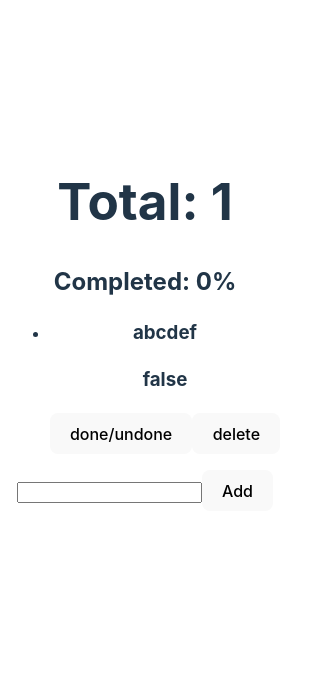
Todo list › Deve testar a todo list
Type "A" into the field named "todo-description-input" at (109, 492), box [17,482,202,503]
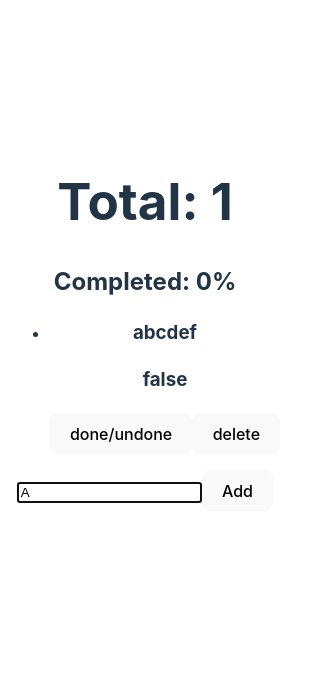
Click the button with aria-label "add-todo-button" at (238, 491), box [202,470,273,511]
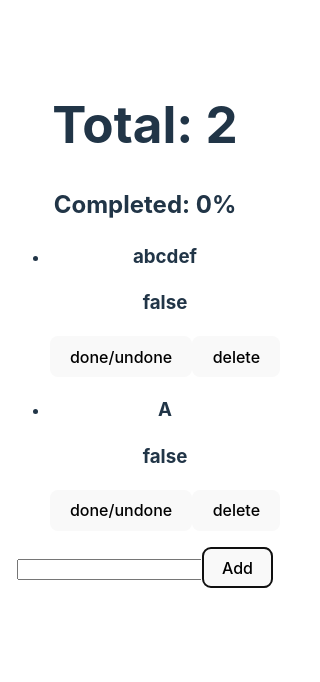
Now the heading labelled "Total: 2" is shown, box [52,93,238,155]
Now the heading named "todo-description" reads "A", box [158,398,172,421]
Now the heading named "todo-done" reads "false", box [143,445,187,468]
Type "B" into the field named "todo-description-input" at (109, 569), box [17,558,202,580]
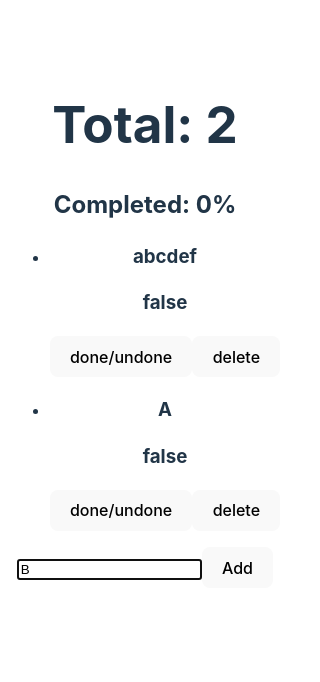
Click the button with aria-label "add-todo-button" at (238, 568), box [202,547,273,588]
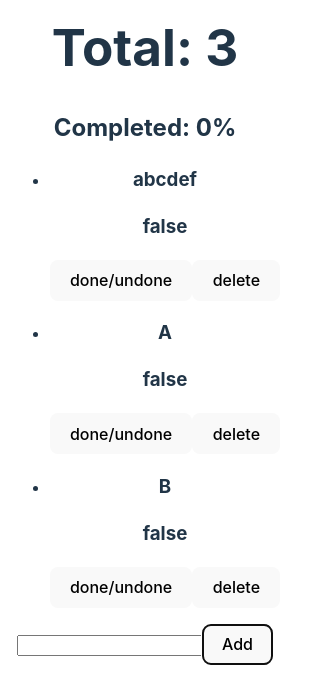
Now the heading labelled "Total: 3" is shown, box [52,16,238,78]
Click the button with aria-label "todo-toggle-done-button" at (121, 280), box [50,260,192,301]
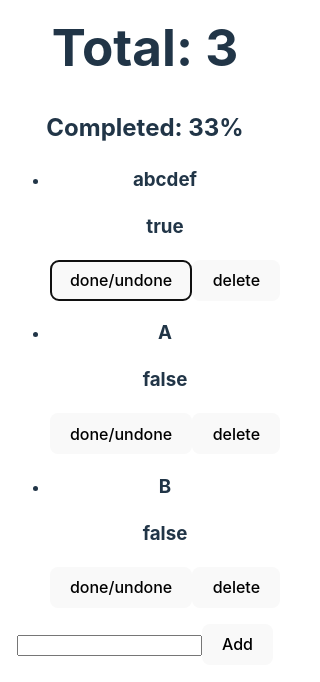
Now the heading labelled "Completed: 33%" is shown, box [46,113,244,142]
Click the button with aria-label "todo-delete-button" at (236, 280), box [192,260,280,301]
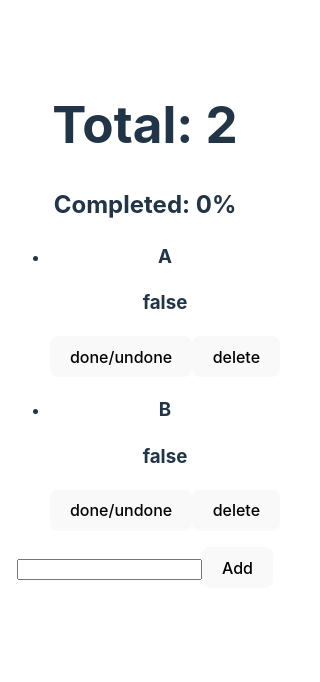
Now the heading labelled "Total: 2" is shown, box [52,93,238,155]
Now the heading labelled "Completed: 0%" is shown, box [54,190,236,219]
